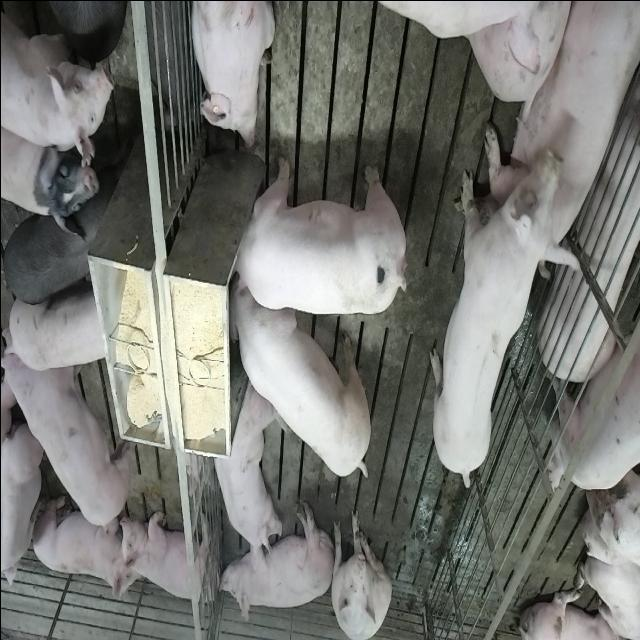Feeding: (228, 276, 376, 480), (230, 156, 412, 316)
Lateral_lying: (216, 498, 334, 624)
Sitting: (328, 506, 391, 638)
Standing: (430, 152, 586, 483), (4, 339, 134, 528), (2, 0, 116, 170), (546, 292, 640, 489), (3, 163, 122, 304), (0, 111, 97, 238), (6, 288, 110, 371)
Sternal_lying: (489, 0, 640, 253), (207, 382, 278, 572), (187, 0, 275, 150), (28, 486, 134, 600), (123, 505, 217, 605)
